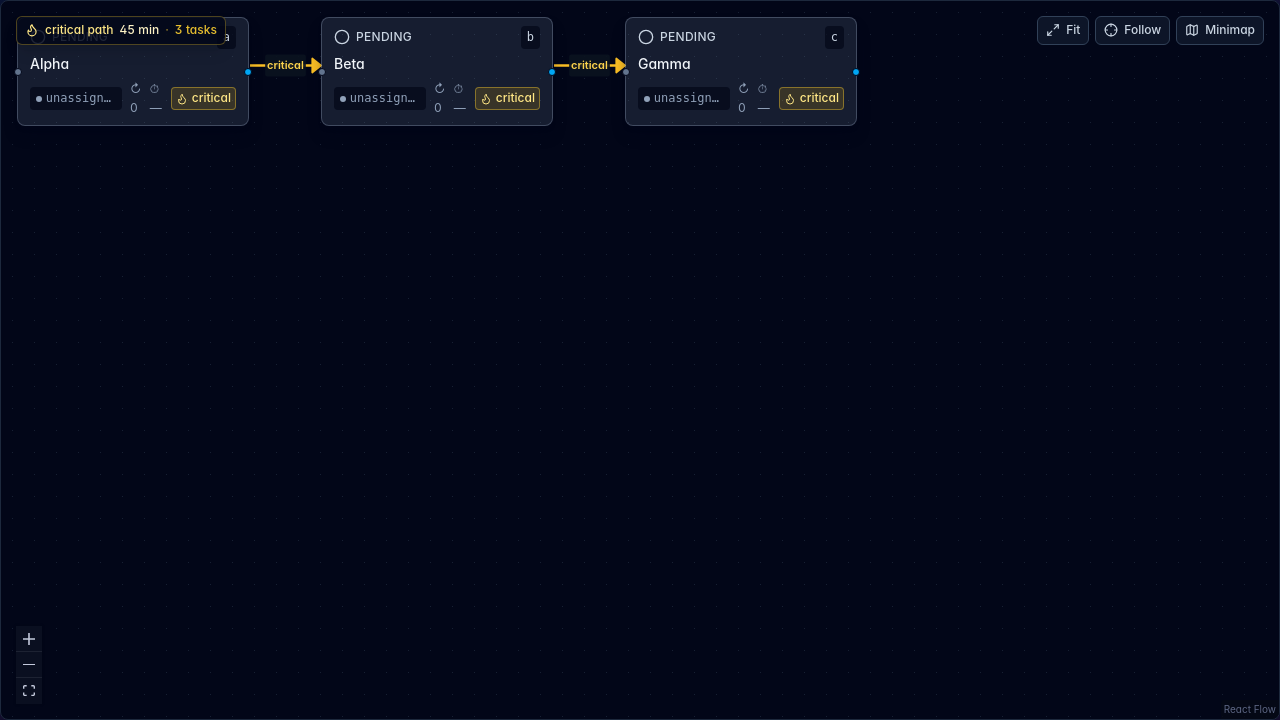
Test: the minimap toggles on and off
Click the button with aria-label "Toggle minimap" at {"x": 1220, "y": 30}, box 1176,16 -> 1264,45
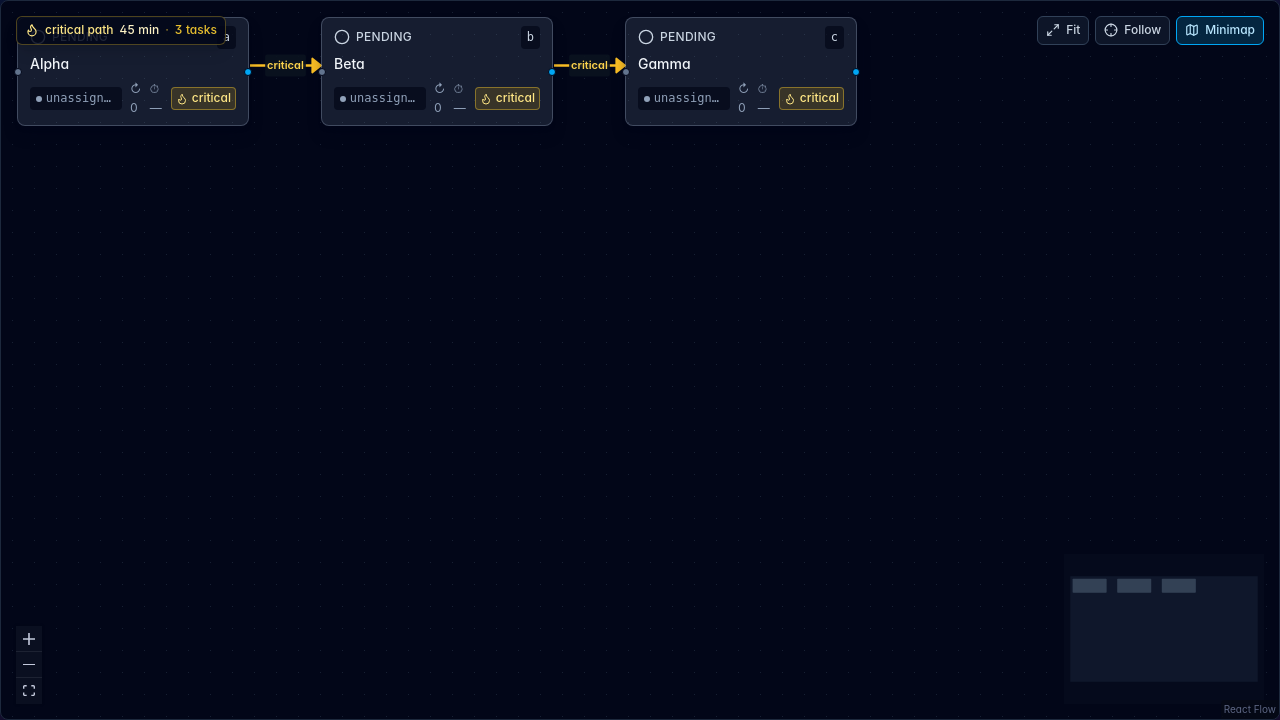
Now the element with class "react-flow__minimap" is shown, box 1064,554 -> 1264,704
Click the button with aria-label "Toggle minimap" at {"x": 1220, "y": 30}, box 1176,16 -> 1264,45
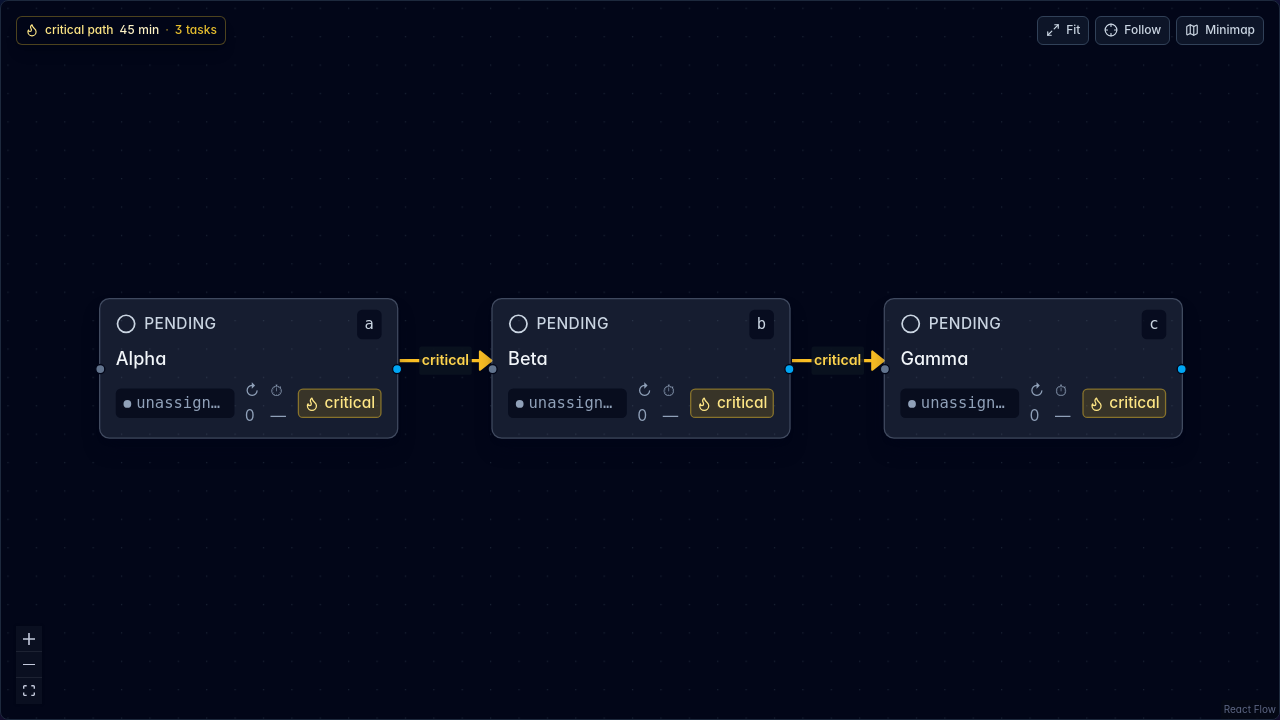
Now the element with class "react-flow__minimap" is gone
